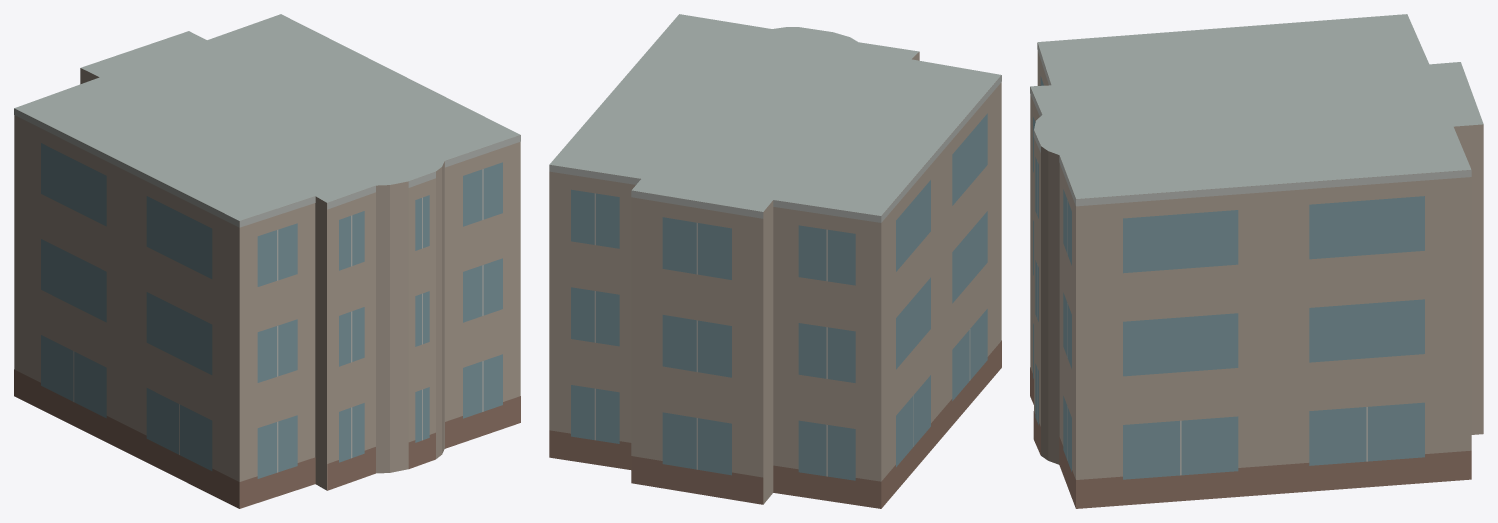
The model's file is survey-upis-32720349.glb.
3 renders of one model, left to right at view 1: azimuth 30°, elevation 25°; view 2: azimuth 150°, elevation 25°; view 3: azimuth 270°, elevation 25°, orthographic. The views are drawn at different scales.
Parts seen in each view (by area): view 1: survey-upis-32720349.tmp; view 2: survey-upis-32720349.tmp; view 3: survey-upis-32720349.tmp.
Boxes of the visible parts, x1,y1,x2,y2 form: survey-upis-32720349.tmp: (14, 14, 520, 508); survey-upis-32720349.tmp: (549, 14, 1001, 508); survey-upis-32720349.tmp: (1030, 14, 1483, 508).
Bounding box in the file's own units: 13.34 × 10.4 × 13.81.
